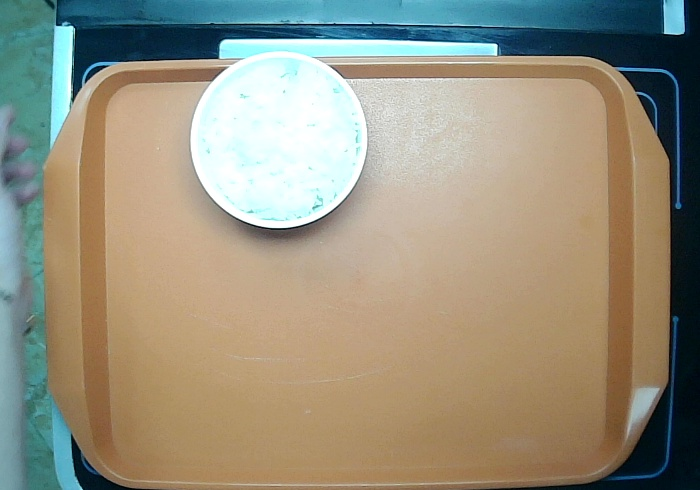HZYJPL-Fan_Wan: (177, 40, 375, 242)
